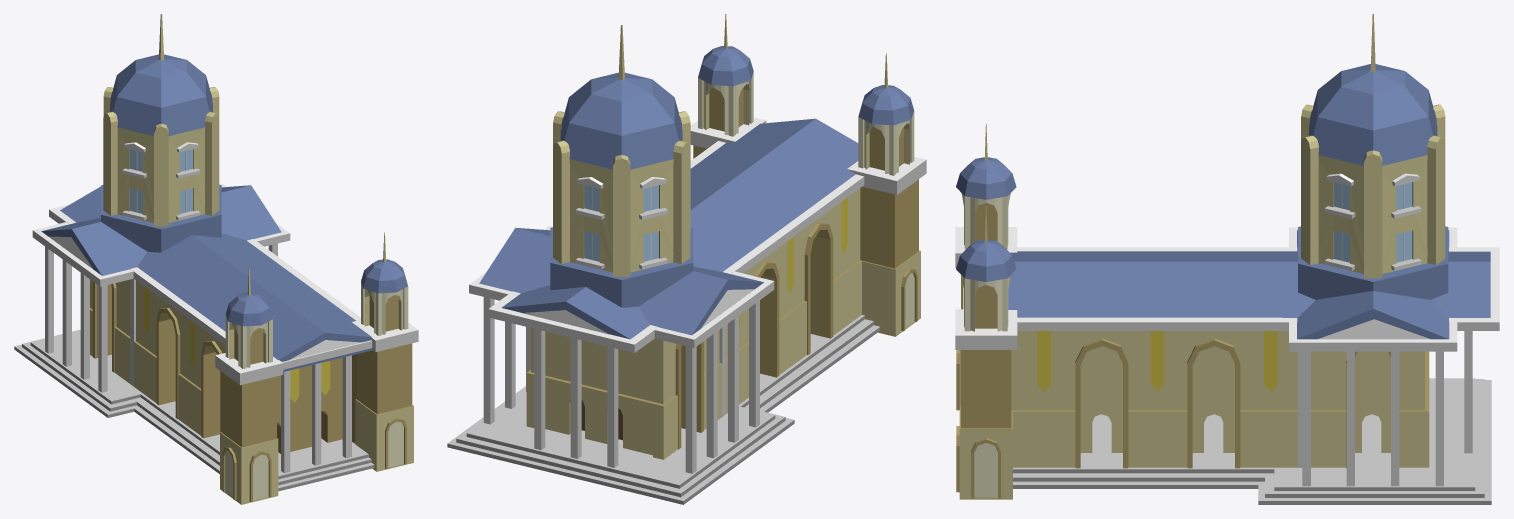
The model's file is temple_006.fbx.
3 renders of one model, left to right at view 1: azimuth 30°, elevation 25°; view 2: azimuth 150°, elevation 25°; view 3: azimuth 270°, elevation 25°, orthographic. The views are drawn at different scales.
Parts seen in each view (by area): view 1: temple_006; view 2: temple_006; view 3: temple_006.
Boxes of the visible parts, x1,y1,x2,y2 form: temple_006: (14, 14, 418, 504); temple_006: (447, 14, 926, 504); temple_006: (955, 14, 1499, 504).
Size of the model in its own units: 1521 by 2553 by 2893.
